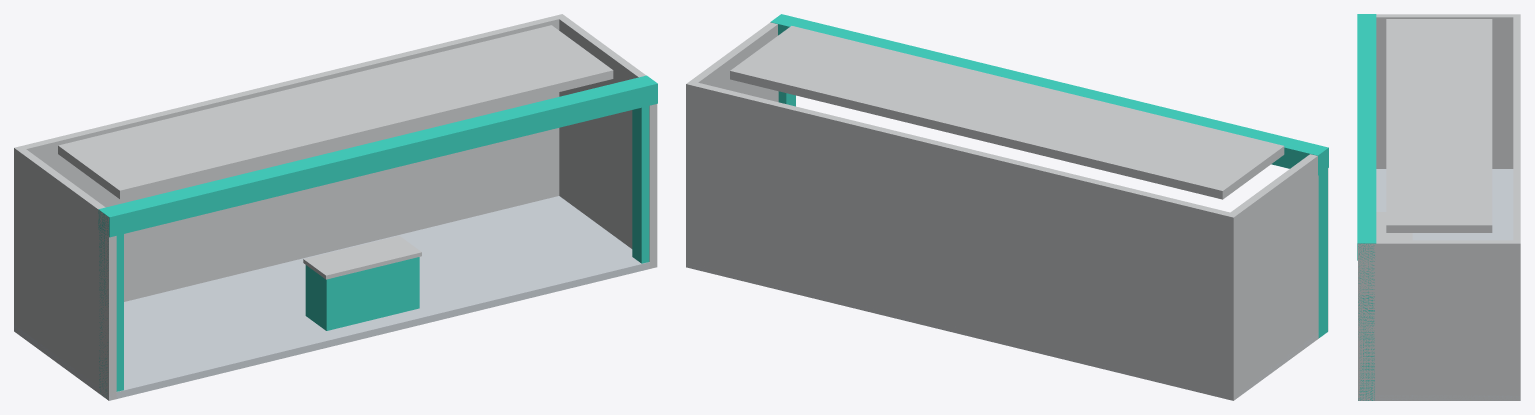
3 renders of one model, left to right at view 1: azimuth 30°, elevation 25°; view 2: azimuth 150°, elevation 25°; view 3: azimuth 270°, elevation 25°, orthographic. The views are drawn at different scales.
Parts seen in each view (by area): view 1: Exhibition Booth Concept; view 2: Exhibition Booth Concept; view 3: Exhibition Booth Concept.
Part boxes in pixels (bbox=[...]): Exhibition Booth Concept: bbox=[14, 14, 657, 400]; Exhibition Booth Concept: bbox=[686, 14, 1328, 400]; Exhibition Booth Concept: bbox=[1357, 14, 1520, 400].
Size of the model in its own units: 10 by 3.34 by 3.01.
